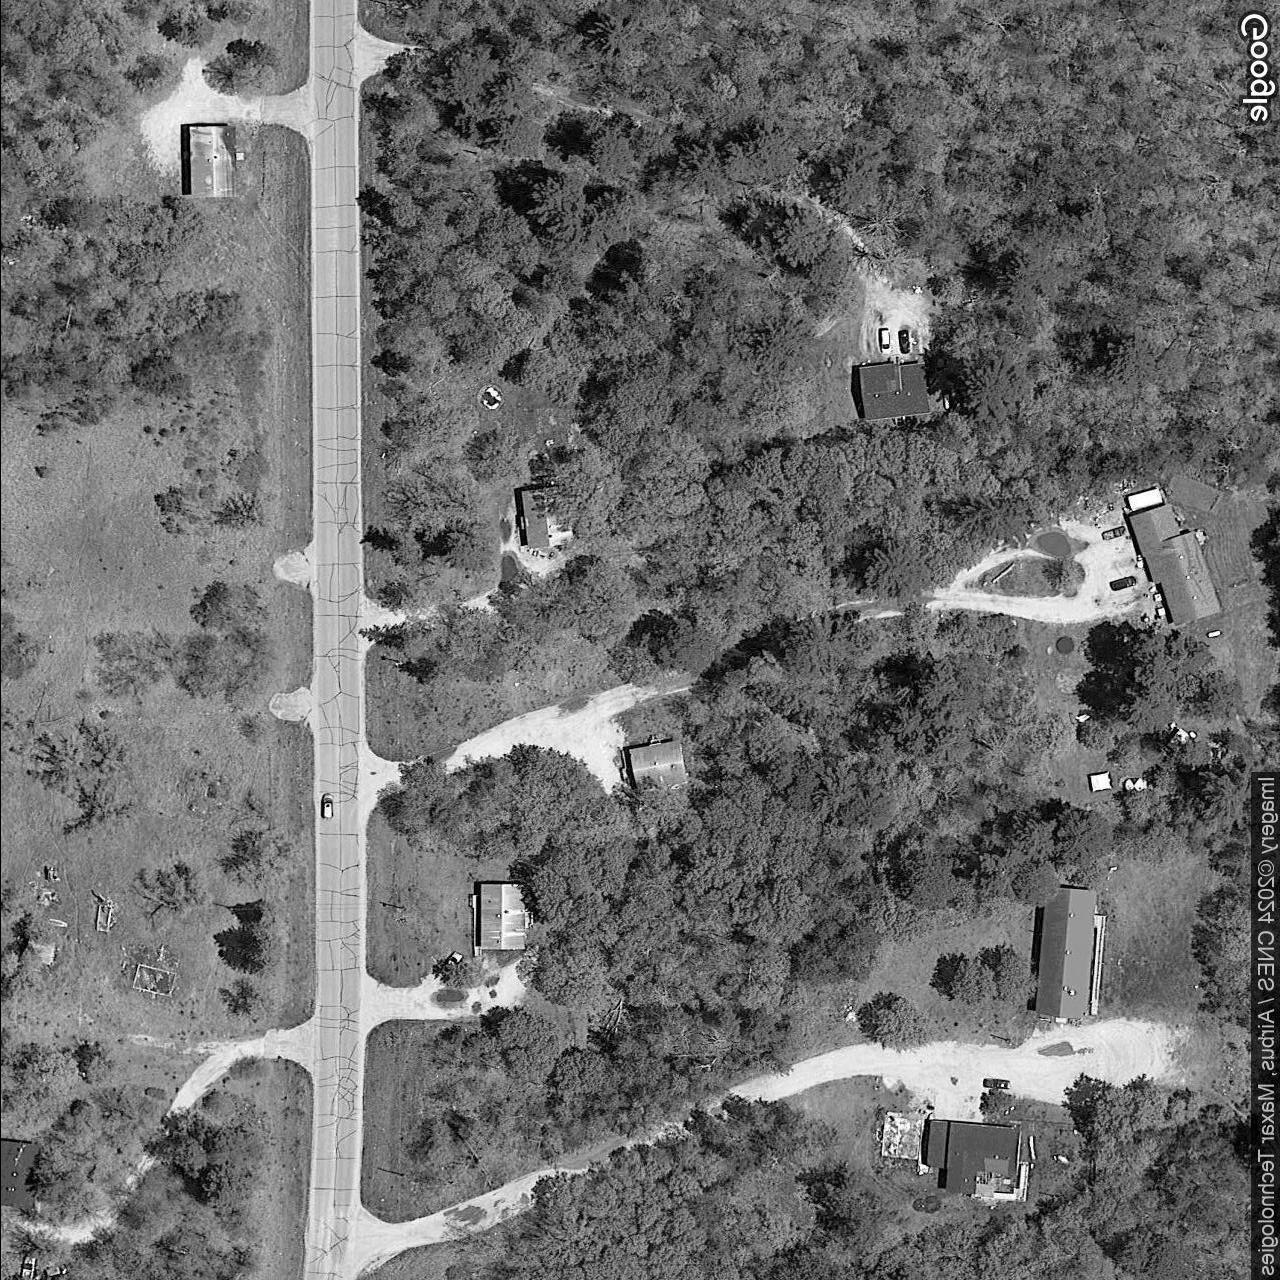House: (1126, 501, 1223, 628), (1032, 885, 1097, 1020), (925, 1118, 1021, 1201), (857, 362, 931, 422), (518, 483, 577, 550), (186, 124, 238, 198), (627, 737, 689, 796), (478, 879, 526, 951), (0, 1138, 42, 1211)
Propane: (1204, 627, 1223, 640), (940, 392, 949, 410)
